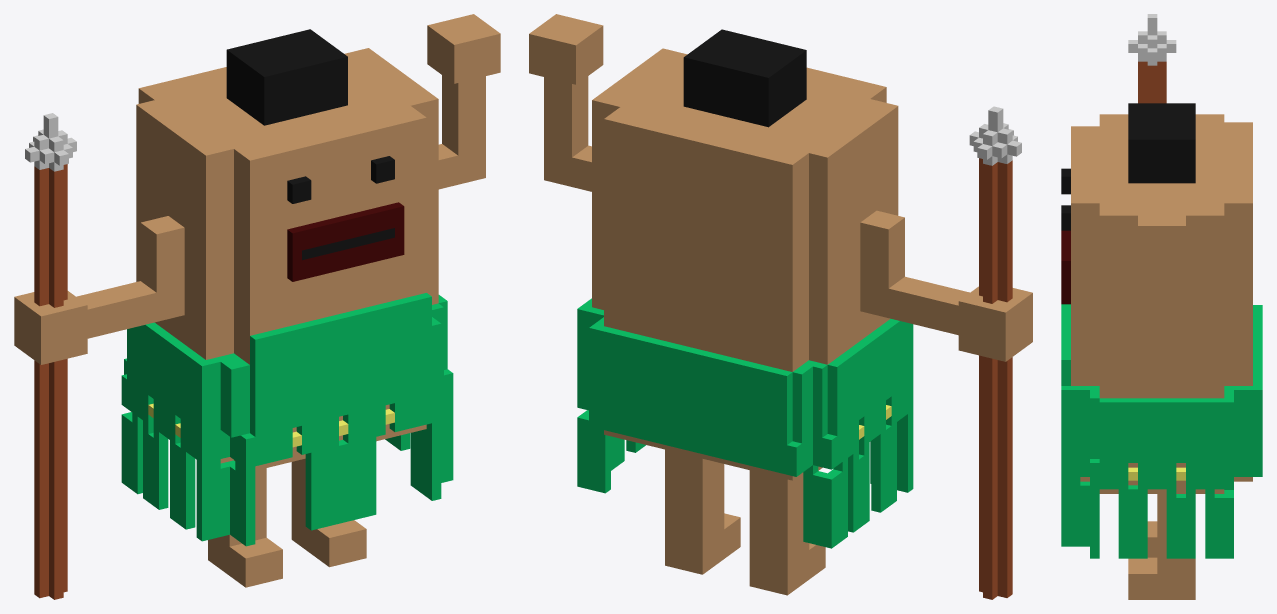
The model's file is native_04.obj.
3 views of the same model, side by side, from view 1: azimuth 30°, elevation 25°; view 2: azimuth 150°, elevation 25°; view 3: azimuth 270°, elevation 25° (orthographic). The views are drawn at different scales.
Bounding box in the file's own units: 50 × 52 × 21.
1 material, 1 textured.
